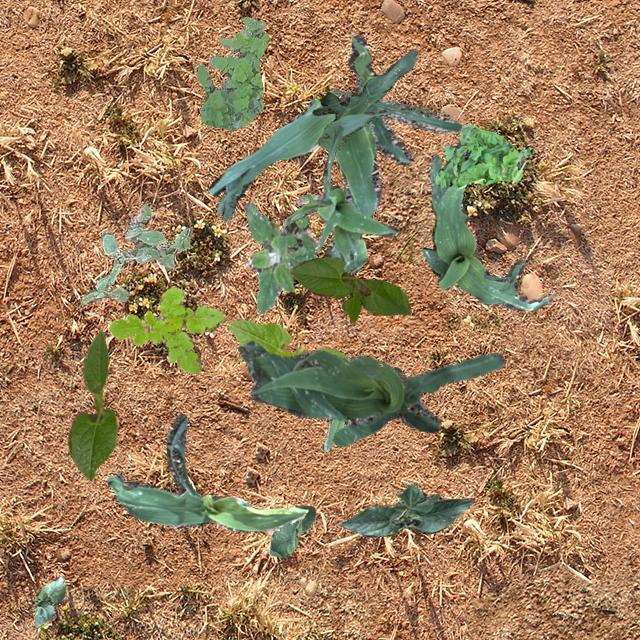crop: (208, 34, 460, 258), (238, 340, 504, 446), (106, 412, 306, 532), (420, 154, 550, 310), (284, 125, 398, 272), (312, 48, 416, 150), (289, 256, 409, 322), (66, 328, 116, 478), (338, 482, 472, 536), (229, 318, 347, 358), (268, 506, 314, 556), (34, 574, 64, 626)
weed: (80, 204, 190, 304), (106, 286, 224, 372), (196, 15, 268, 130), (242, 202, 316, 312), (434, 124, 534, 188), (320, 418, 350, 450)
